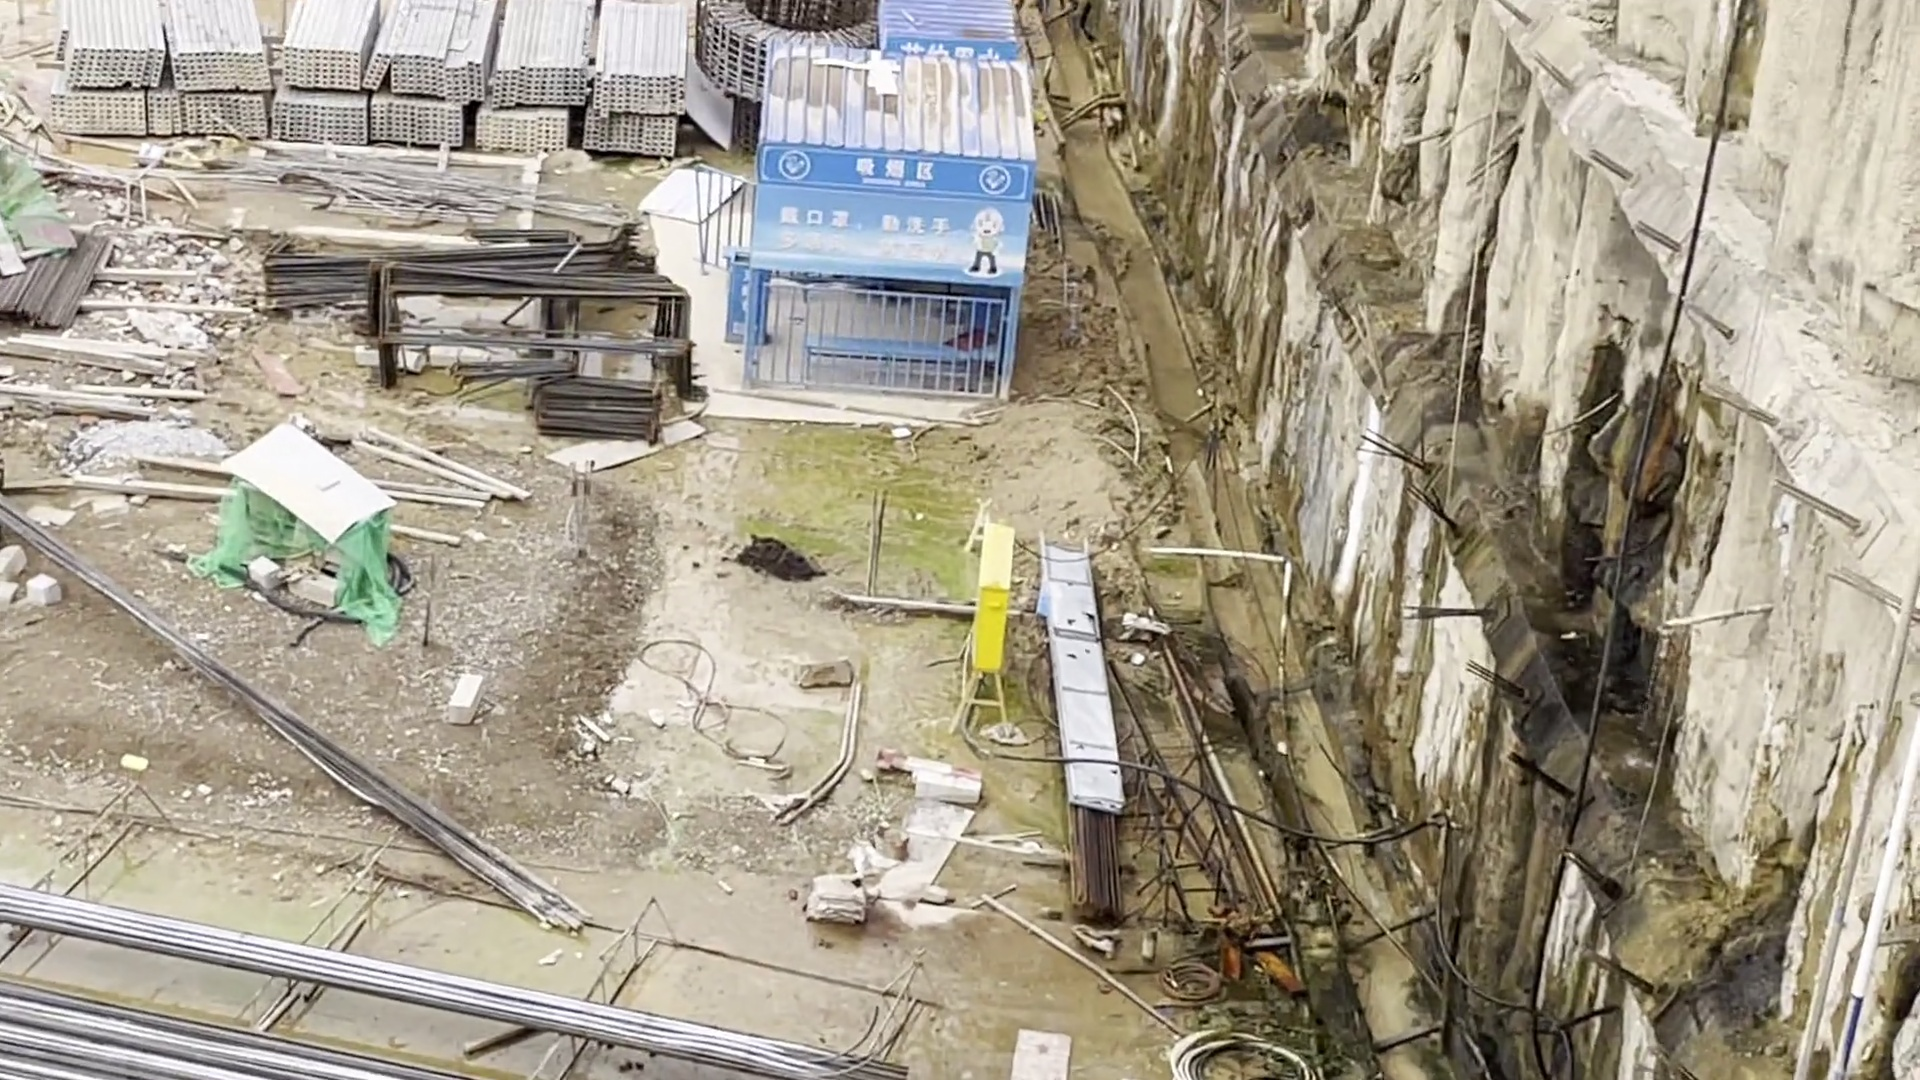ebox: (964, 521, 1026, 721)
rebar: (1, 916, 865, 1080)
scaffold: (51, 1, 699, 165)
slogan: (761, 156, 1025, 273)
